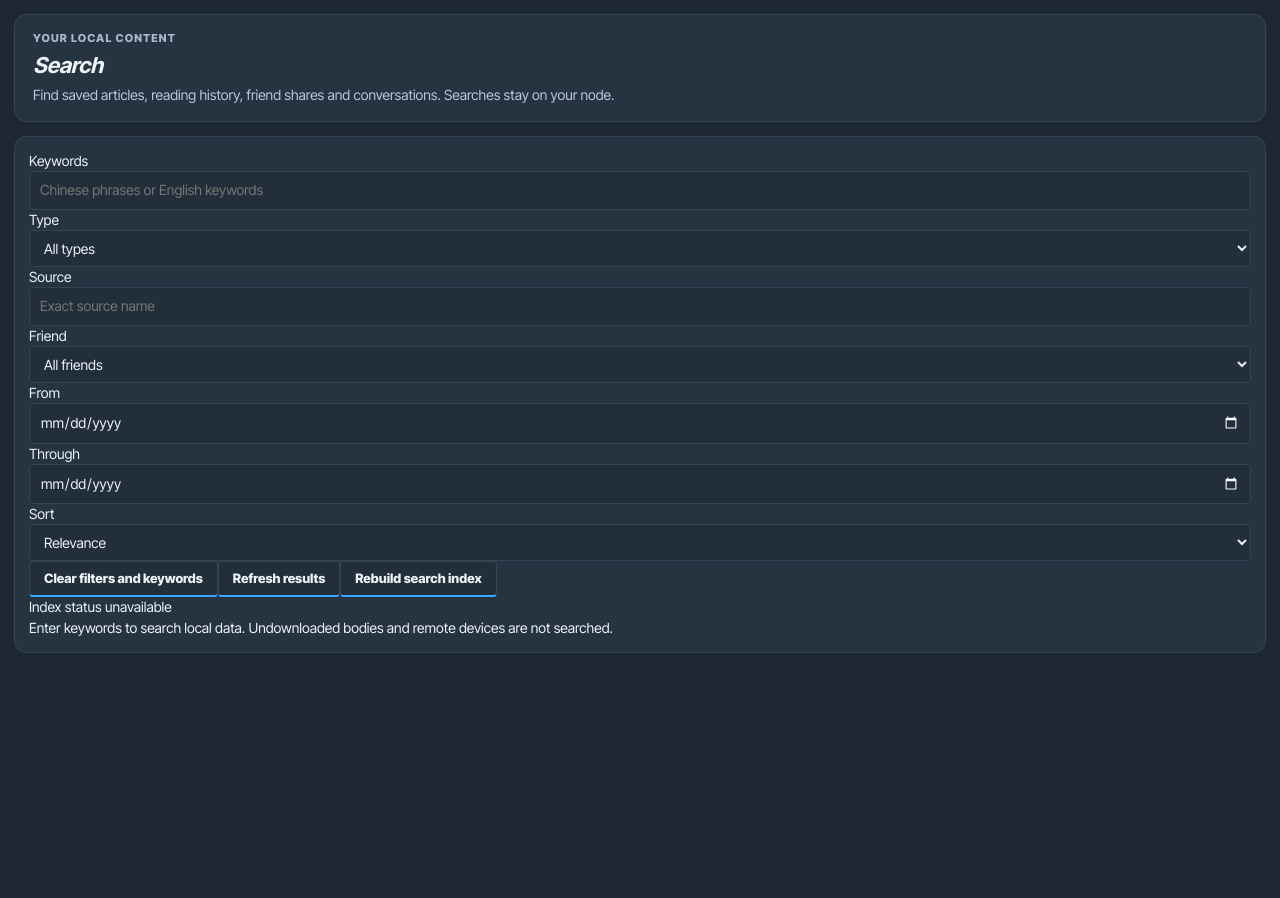
Test: moves keyboard focus to the first newly loaded result when pagination ends
The width and height of the screenshot is (1280, 898).
Type "result" into the field named "Search keywords".
click(640, 191); type("result")  # box x1=29 y1=171 x2=1251 y2=210
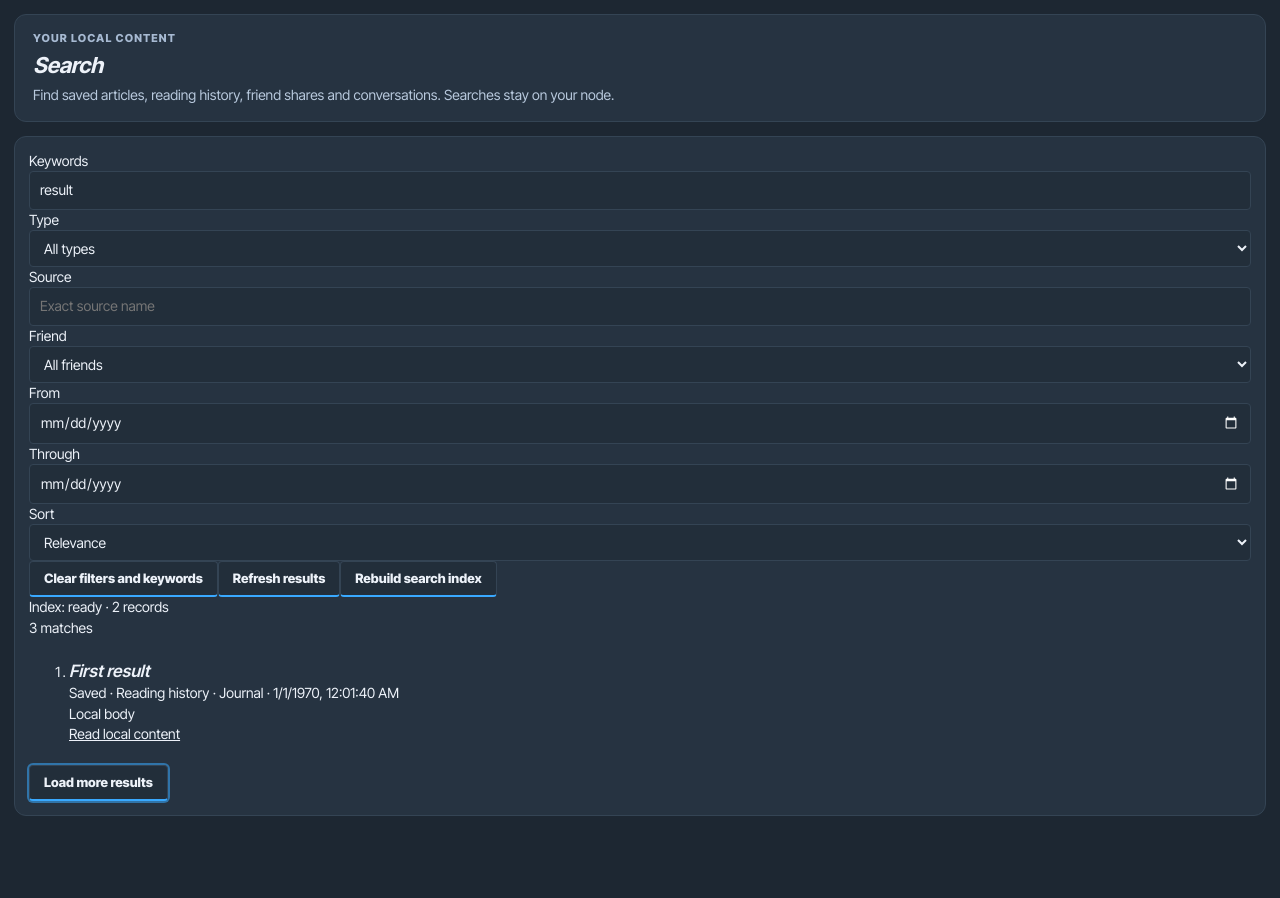
Press Enter
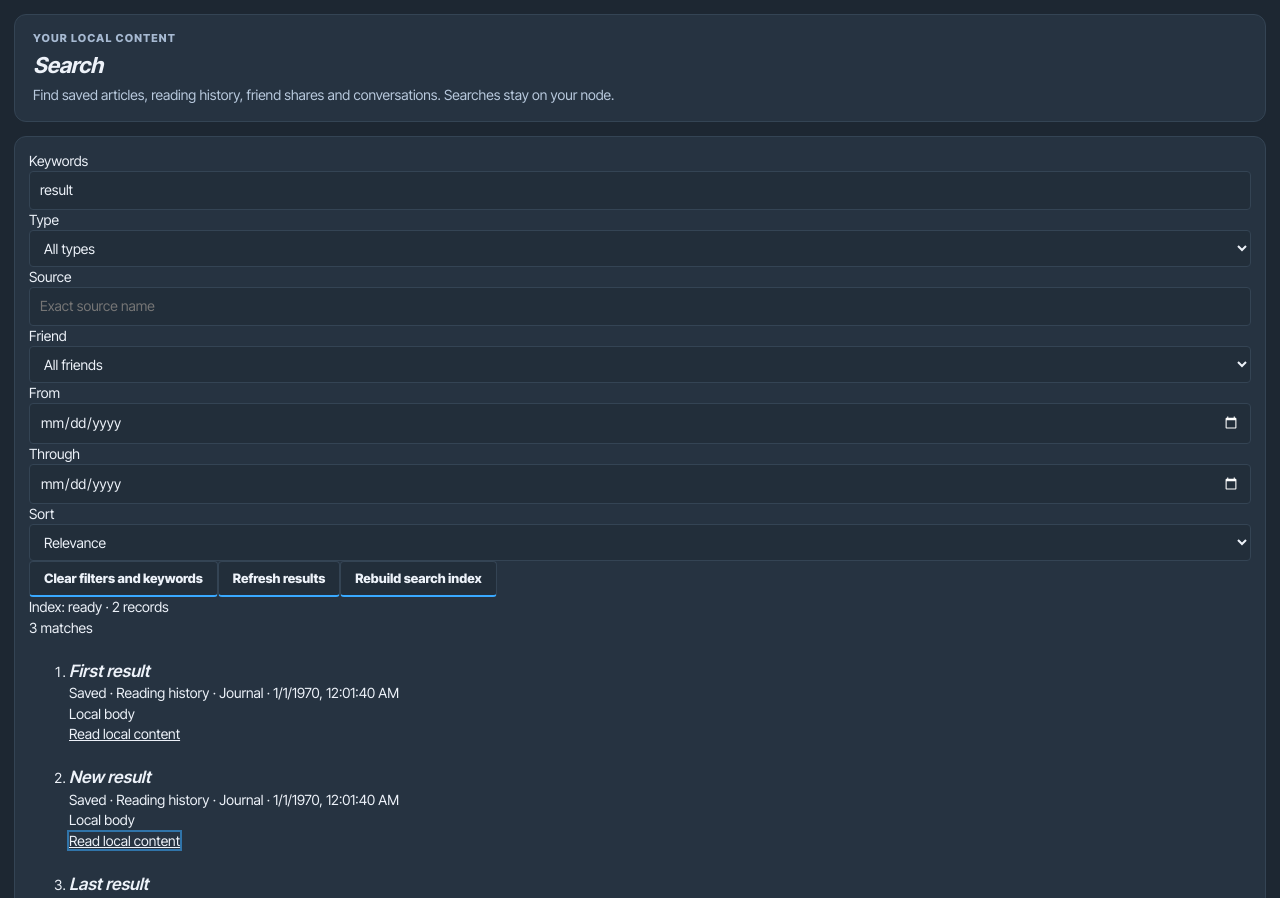
Expected: the heading "Last result" is shown, x1=69 y1=874 x2=148 y2=894
Expected: the button "Load more results" is gone
